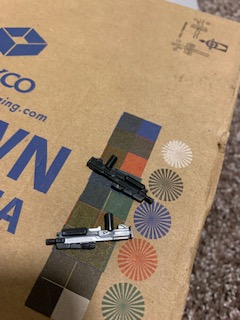rifle: (81, 152, 156, 206), (44, 212, 136, 253)
